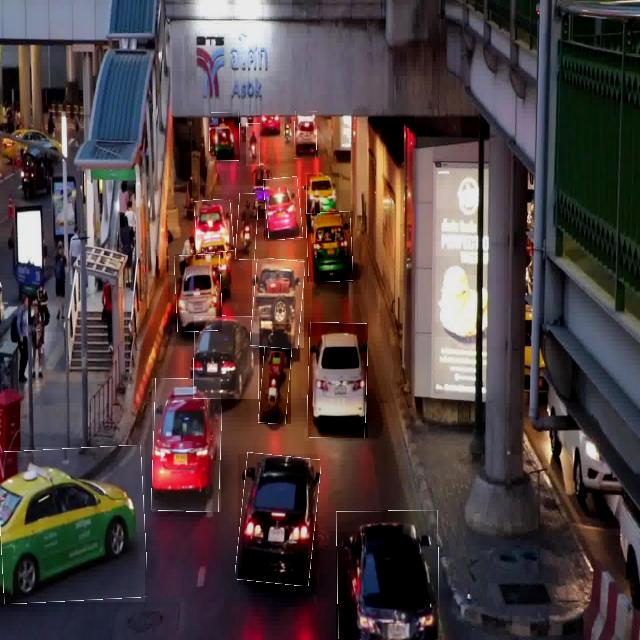Car: (0, 447, 145, 602), (336, 510, 438, 640), (238, 454, 318, 585), (152, 378, 221, 512), (308, 323, 368, 438), (194, 316, 259, 399), (175, 254, 222, 332), (307, 211, 353, 282), (265, 177, 301, 240), (195, 200, 233, 252), (210, 112, 240, 161), (306, 173, 339, 215), (295, 111, 317, 159)
Motorcycle: (260, 324, 291, 424), (236, 194, 257, 260), (246, 123, 260, 166)
Truck: (252, 259, 304, 348)
